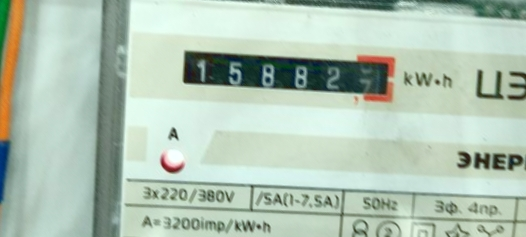1: (191, 53, 207, 81)
2: (322, 61, 340, 90)
5: (223, 56, 243, 84)
7: (354, 73, 371, 91)
8: (256, 58, 274, 87), (290, 60, 307, 89)
screen: (165, 31, 404, 109)
